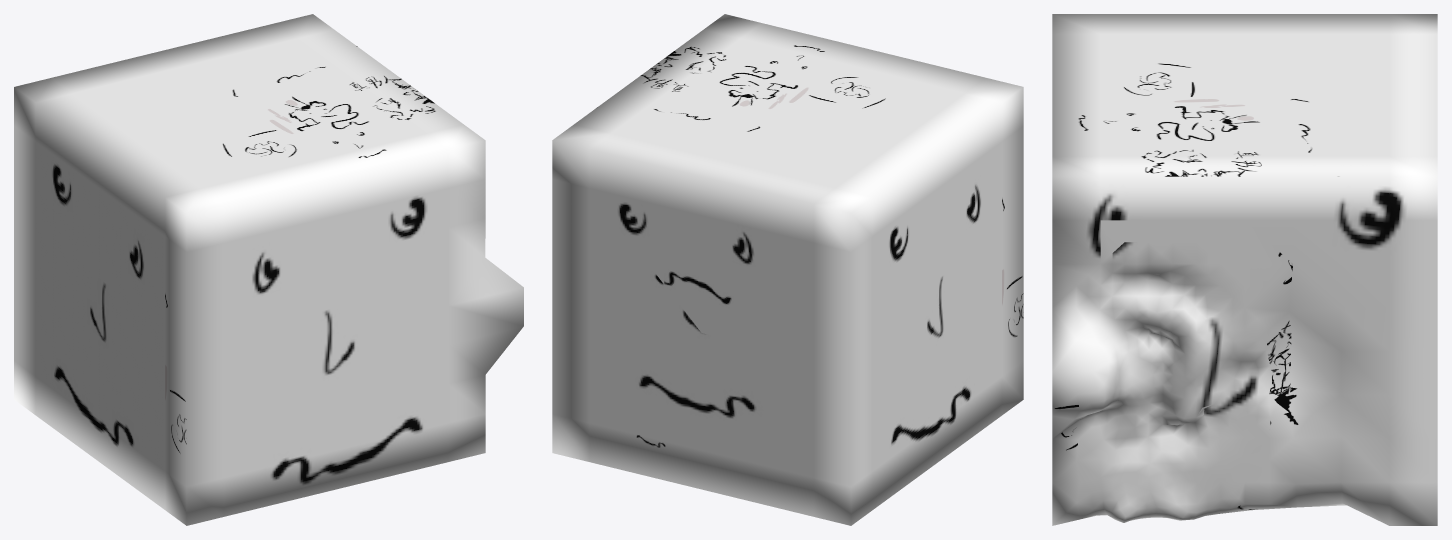
3 views of the same model, side by side, from view 1: azimuth 30°, elevation 25°; view 2: azimuth 150°, elevation 25°; view 3: azimuth 270°, elevation 25° (orthographic). The views are drawn at different scales.
Visible parts, largest first — view 1: Cube; view 2: Cube; view 3: Cube.
Part boxes in pixels (box(x1,y1,x2,y2)): Cube: box(14, 14, 523, 525); Cube: box(552, 14, 1023, 525); Cube: box(1052, 14, 1437, 525).
Size of the model in its own units: 2.26 by 2 by 2.
Materials: 1 (1 with a texture image).
